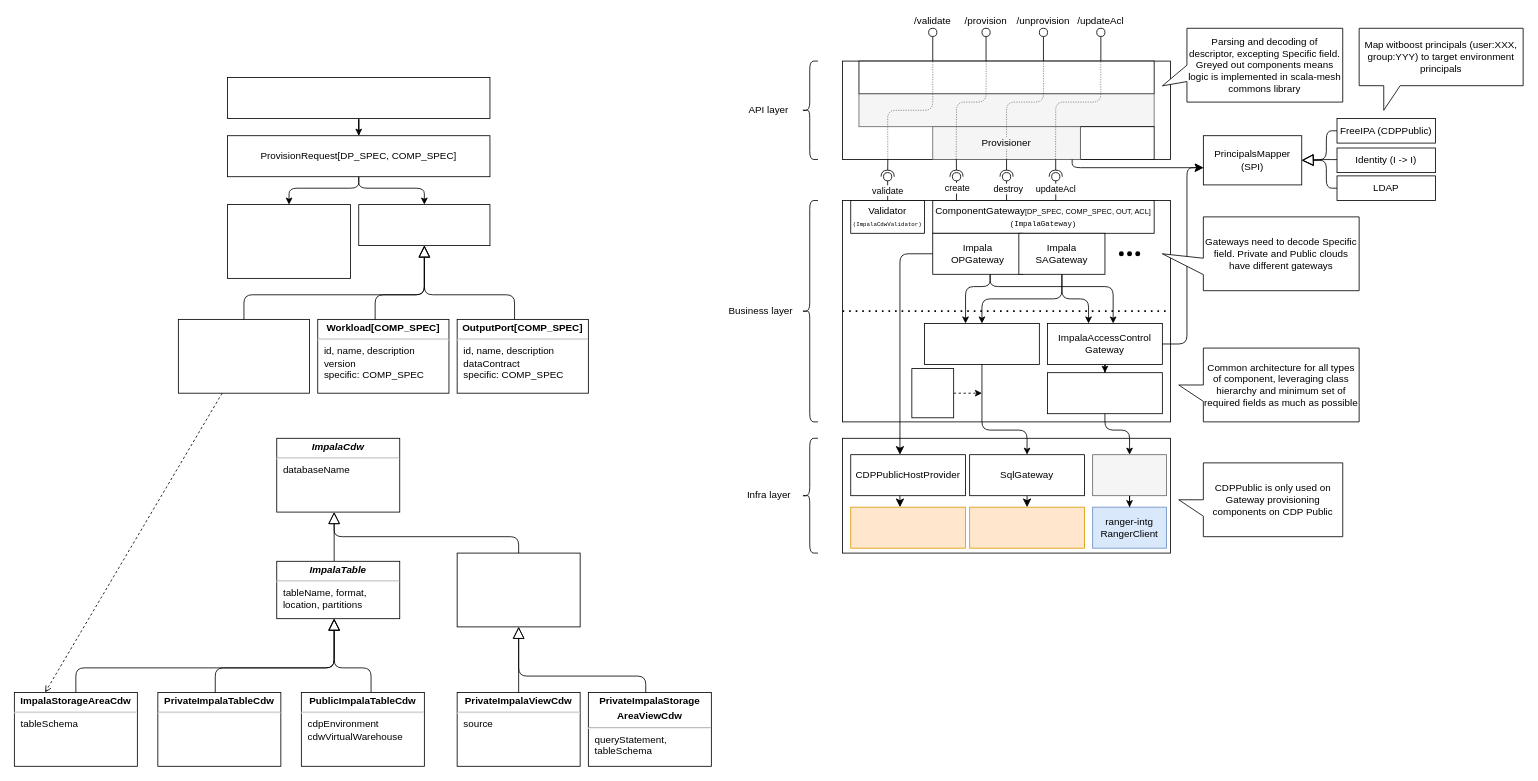
The diagram is 1538 pixels wide and 781 high, and some of its shapes have lost their labels. Each missing label, with the centre of its shape:
"Cloudera Impala JDBC Driver" belongs at [1026,527].
"Cloudera SDK" belongs at [908,527].
"Component[COMP_SPEC]" belongs at [424,225].
"DataProduct[DP_SPEC] id dataProductOwner devGroup" belongs at [289,241].
"DDL Provider" belongs at [932,393].
"ExternalTable/View Gateway" belongs at [981,343].
"ImpalaView viewName" belongs at [518,589].
"ProvisionCommand[DP_SPEC, COMP_SPEC]" belongs at [358,97].
"ProvisionerController" belongs at [1006,110].
"ProvisionerHandler" belongs at [1006,77].
"Ranger SZ/Role/Policy Gateway" belongs at [1104,393].
"RangerClient" belongs at [1129,475].
"Repository" belongs at [1117,142].
"StorageArea[COMP_SPEC] id, name, description owners specific: COMP_SPEC" belongs at [244,356].
